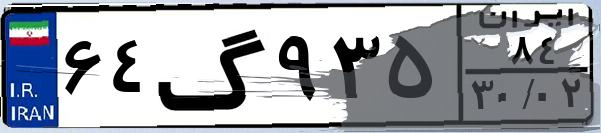0: (495, 70, 520, 125), (535, 70, 560, 125)
2: (560, 70, 590, 125)
3: (330, 28, 385, 110), (470, 70, 495, 125)
4: (110, 28, 156, 98), (537, 27, 568, 80)
5: (385, 28, 445, 110)
6: (57, 26, 110, 100)
8: (508, 27, 537, 80)
9: (270, 28, 330, 110)
گ: (156, 12, 270, 120)
